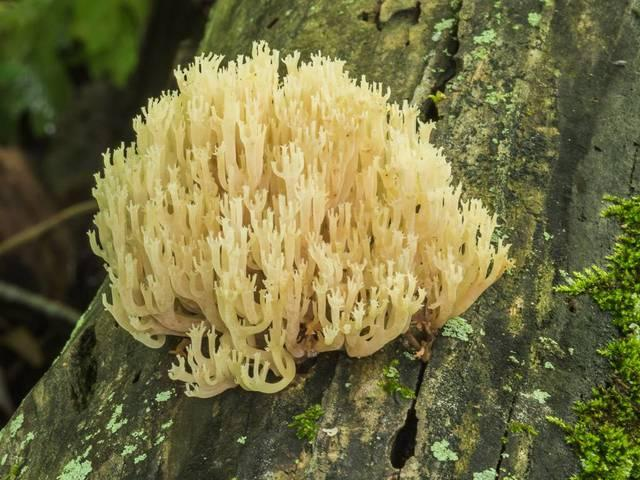edible_mushroom: (86, 38, 515, 399)
